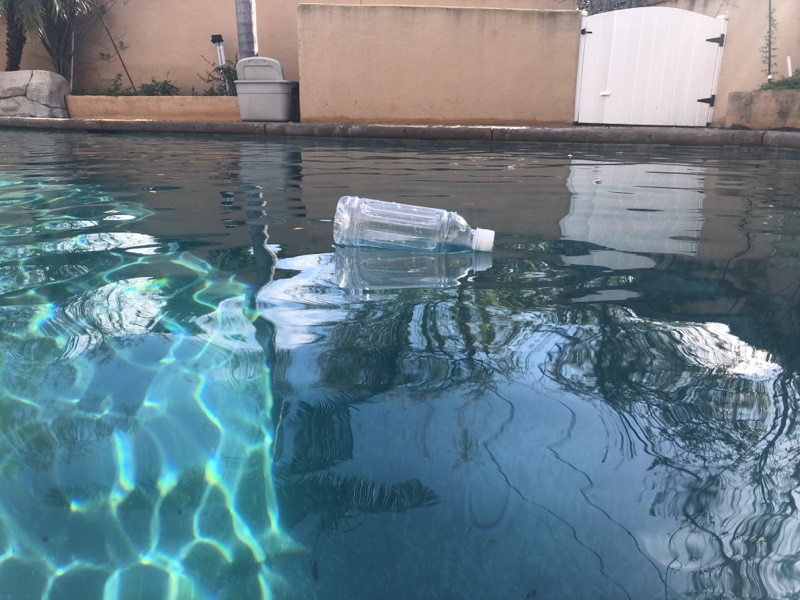Plastic Bottle: (329, 189, 497, 260)
